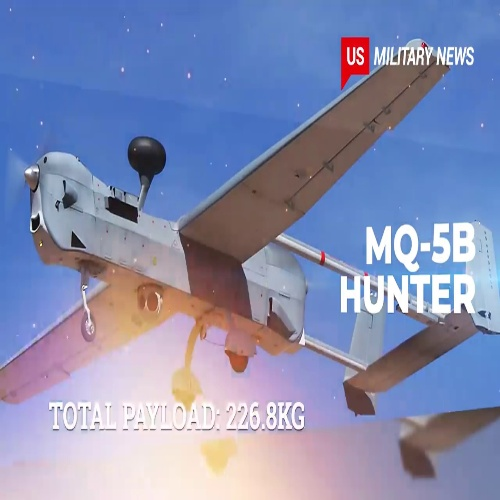uav: (4, 44, 496, 420)
